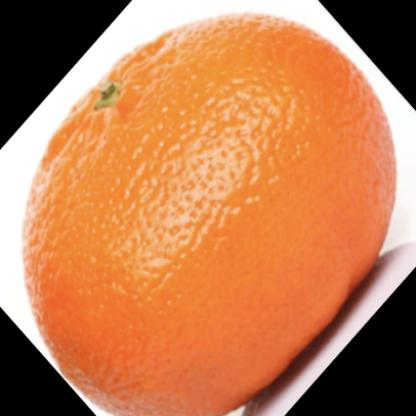fresh: (26, 11, 396, 416)
